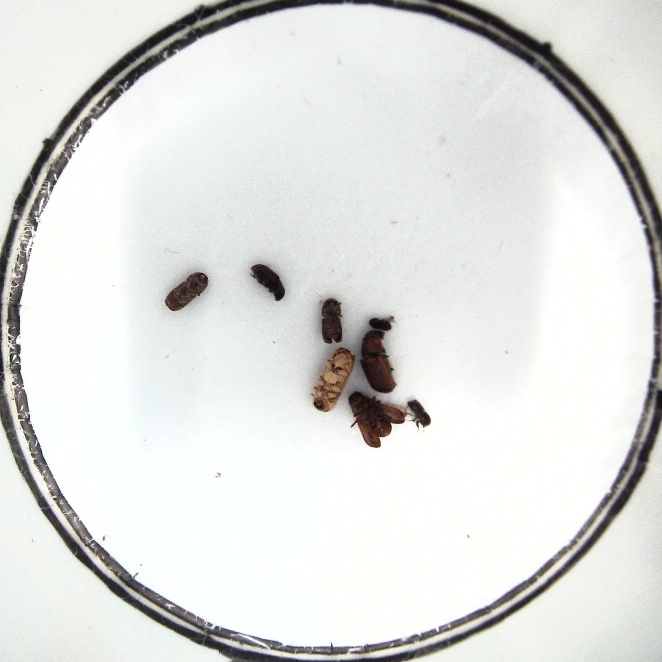acuminatus: (406, 399, 433, 432)
armandi: (247, 264, 286, 303)
boerner: (309, 346, 356, 412)
coleoptera: (368, 315, 397, 329)
leconte: (347, 391, 405, 446), (358, 331, 403, 393)
linnaeus: (164, 270, 210, 312), (316, 297, 347, 344)
